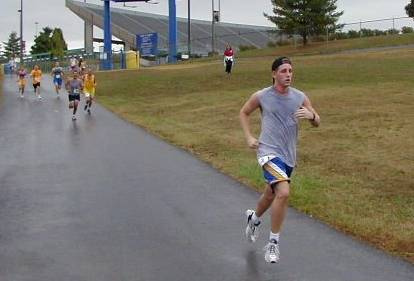person: (240, 59, 324, 266)
